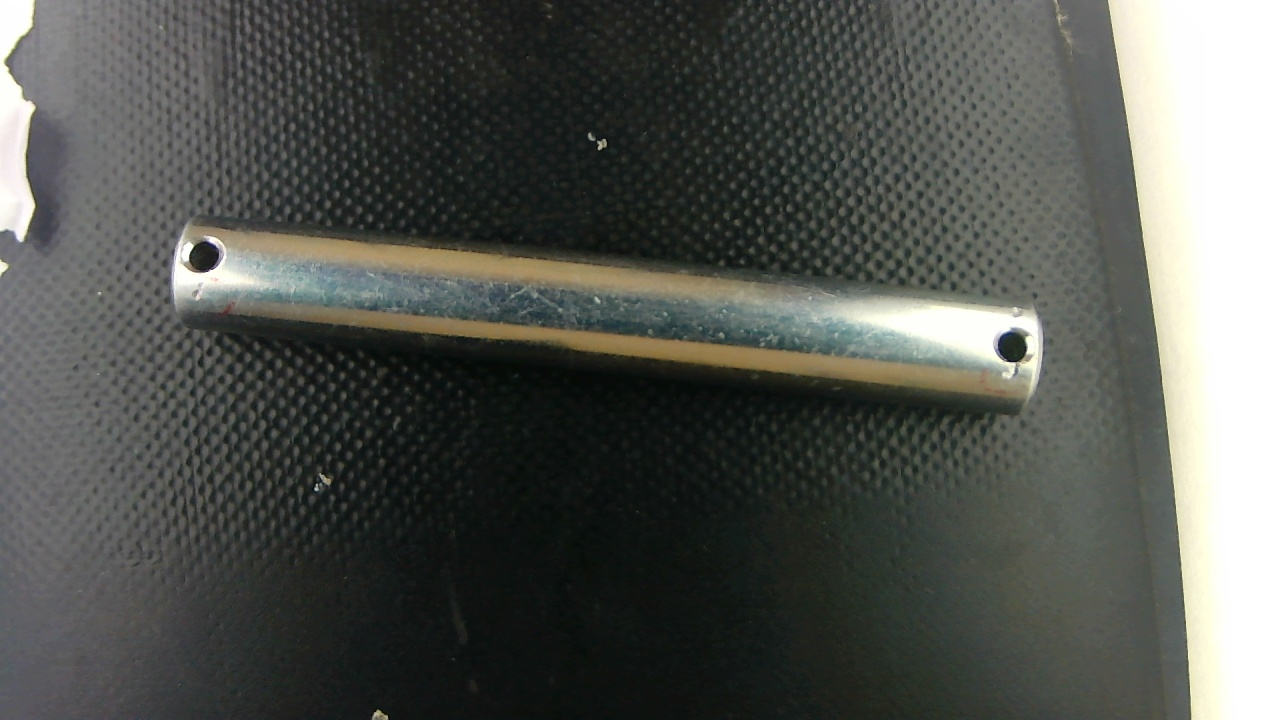drill touch_pin: (999, 362, 1024, 387)
